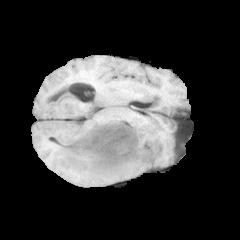glioma: (53, 120, 153, 182)
